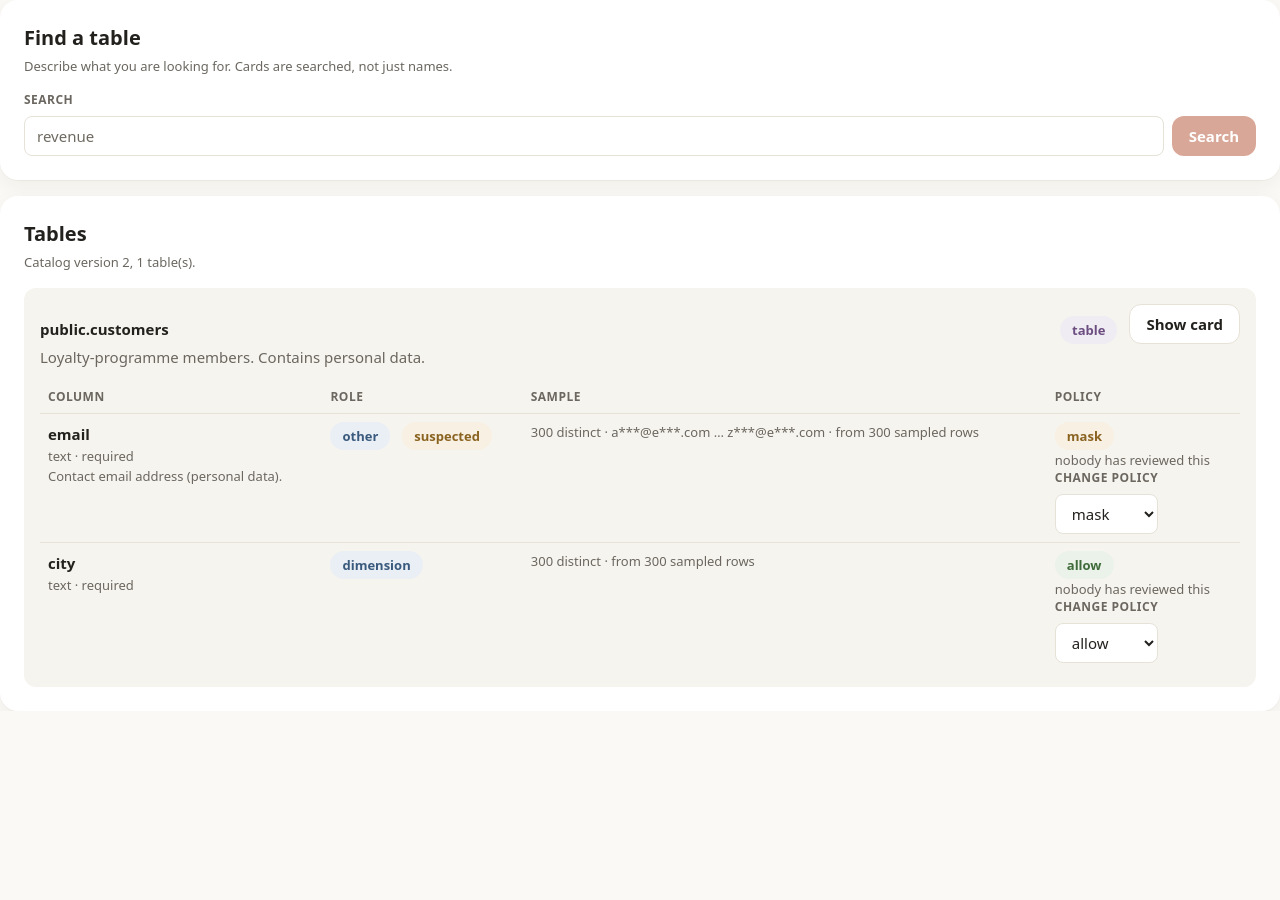
Test: <CatalogBrowser /> › shows the card an agent would be given, verbatim
Click the button "Show card" at (1185, 324), box x1=1129 y1=304 x2=1240 y2=344
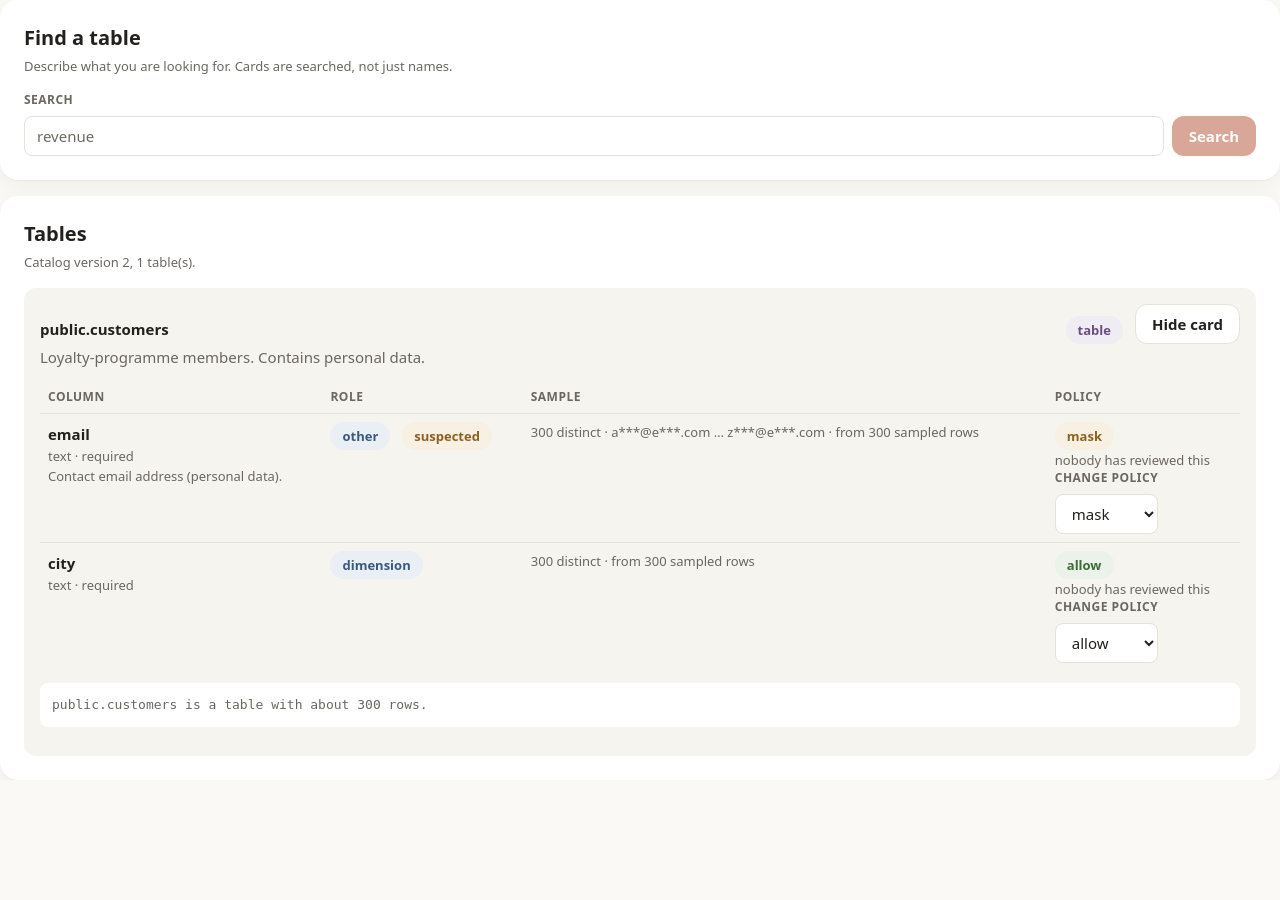
Expected: the text "public.customers is a table with about 300 rows." is shown, x1=40 y1=683 x2=1240 y2=727
